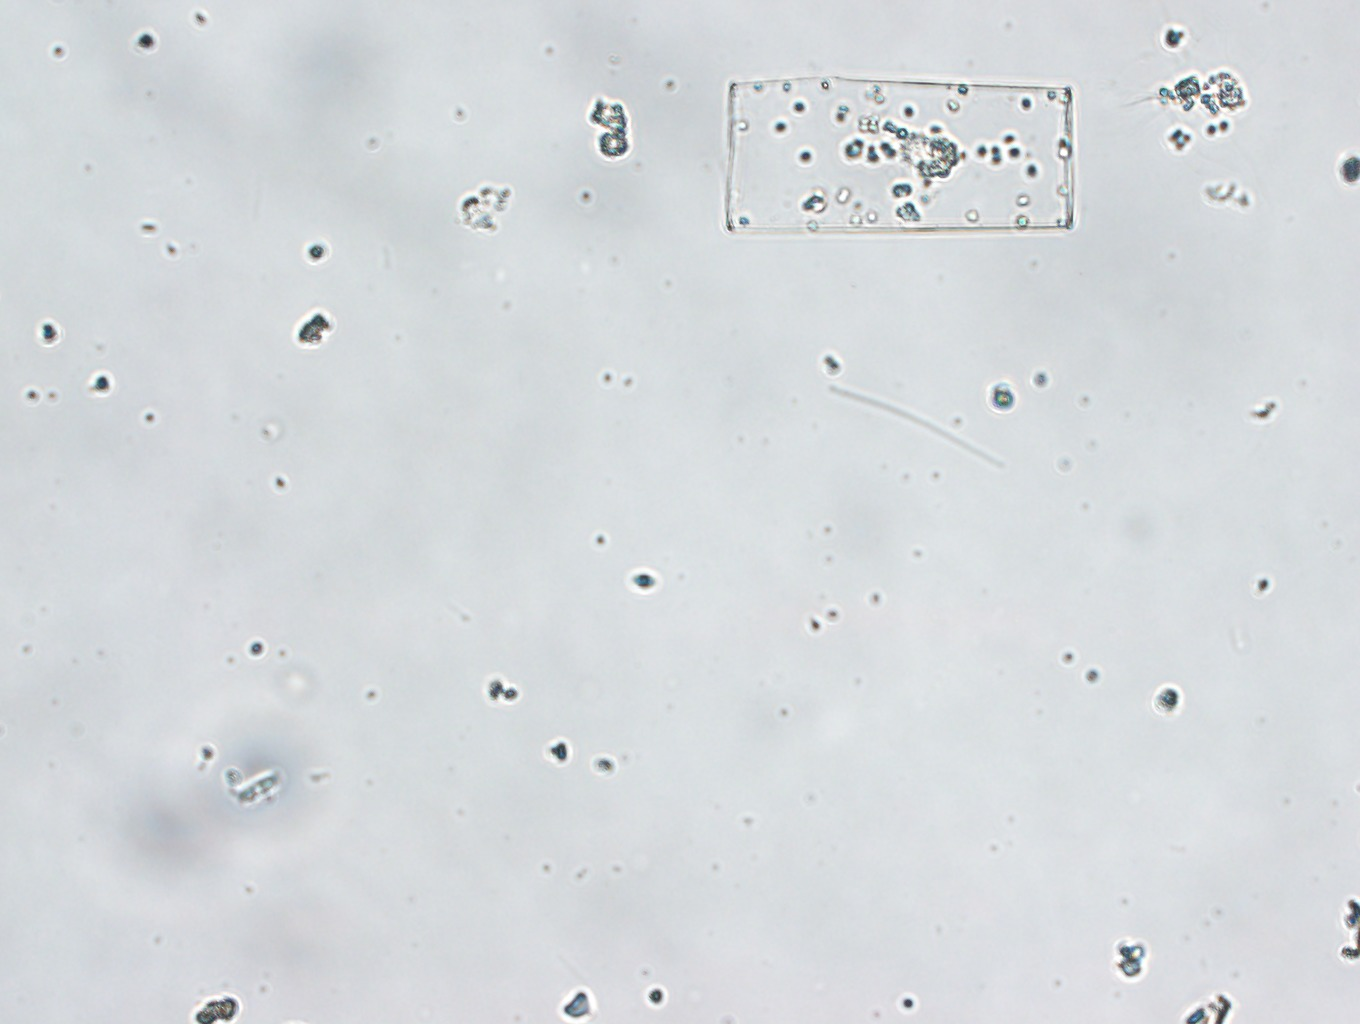guinardia flaccida: (719, 72, 1089, 244)
